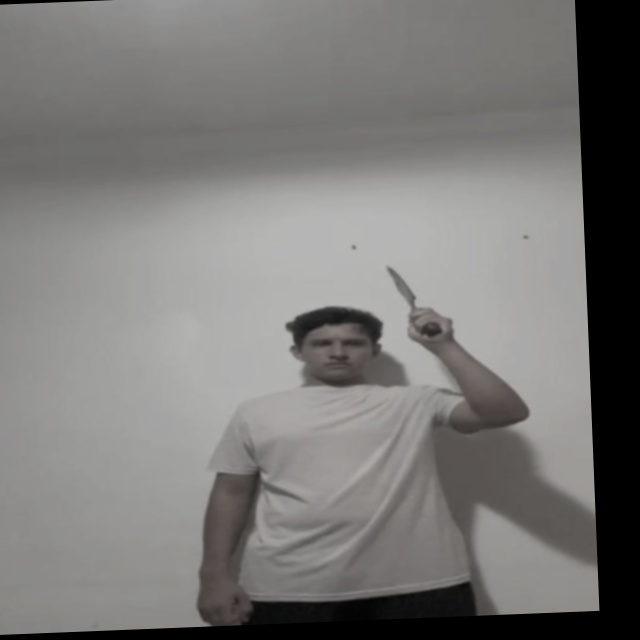Sharp-Object: (387, 266, 415, 303)
